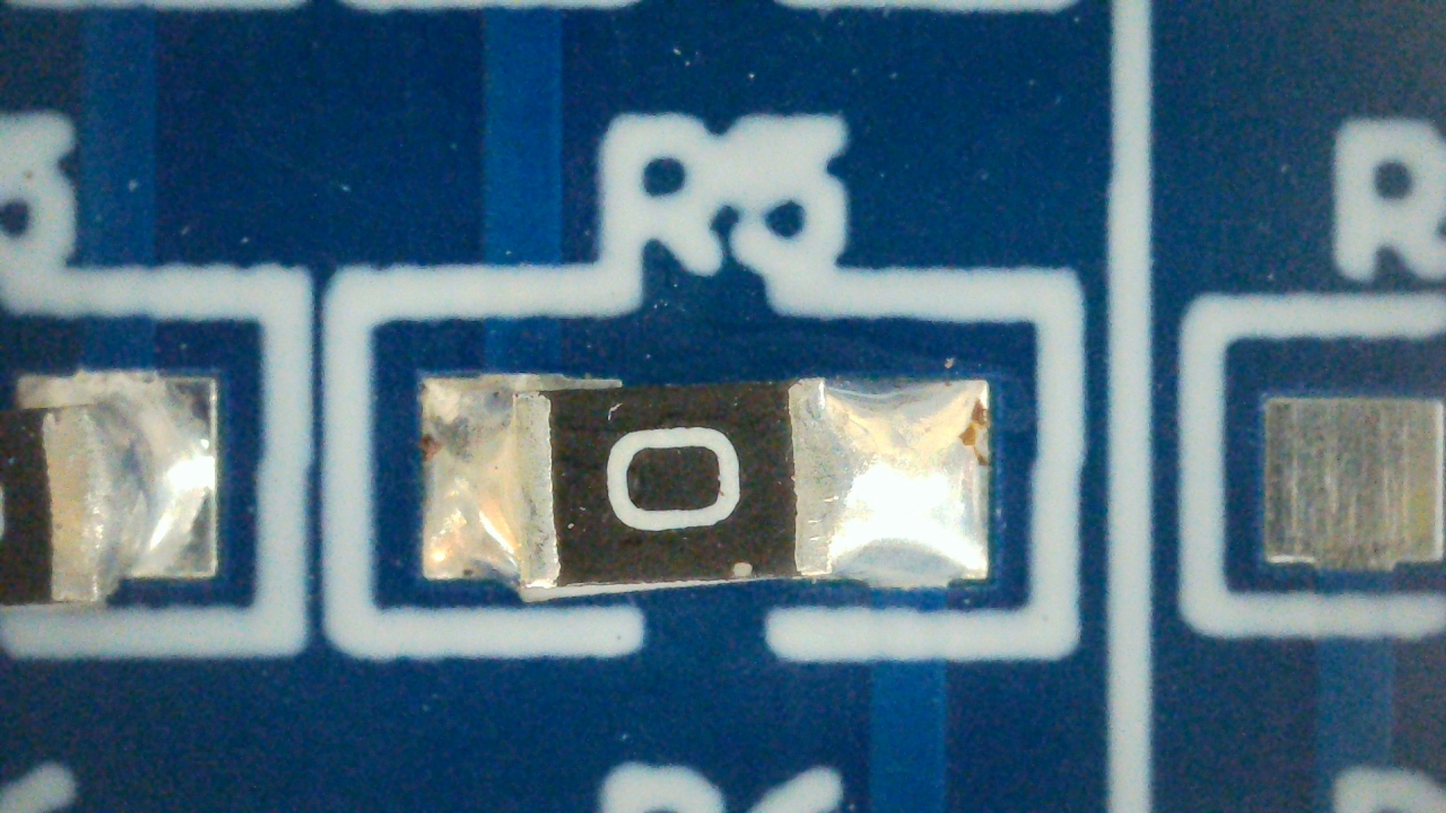OK: (422, 377, 990, 584)
